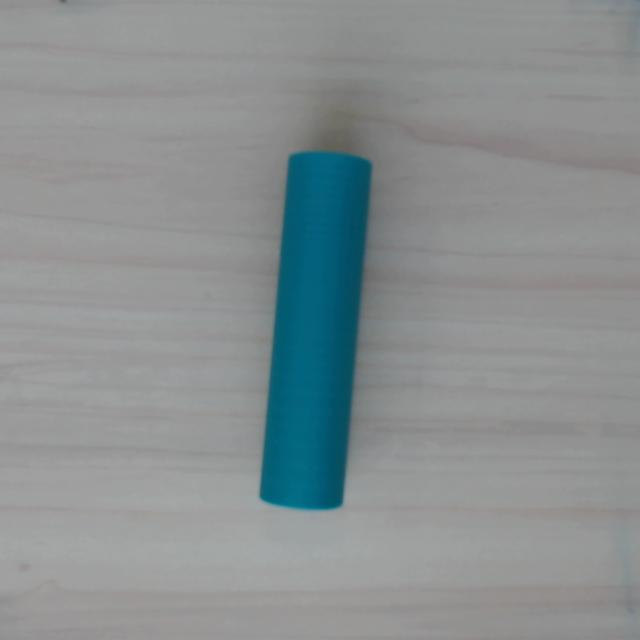Silinder-Hijau-10025: (258, 148, 373, 512)
